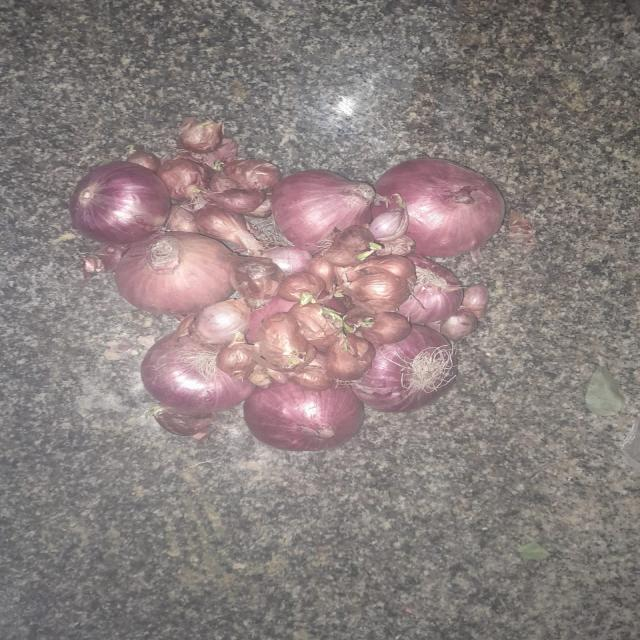sprouting: (341, 322, 373, 334), (298, 294, 318, 306)
